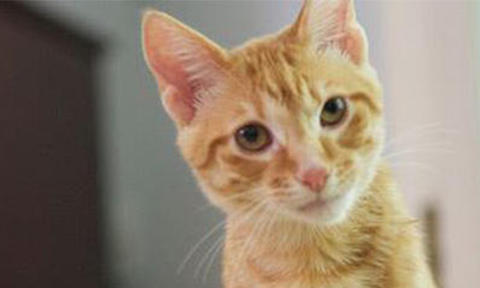cat: (135, 2, 427, 227)
